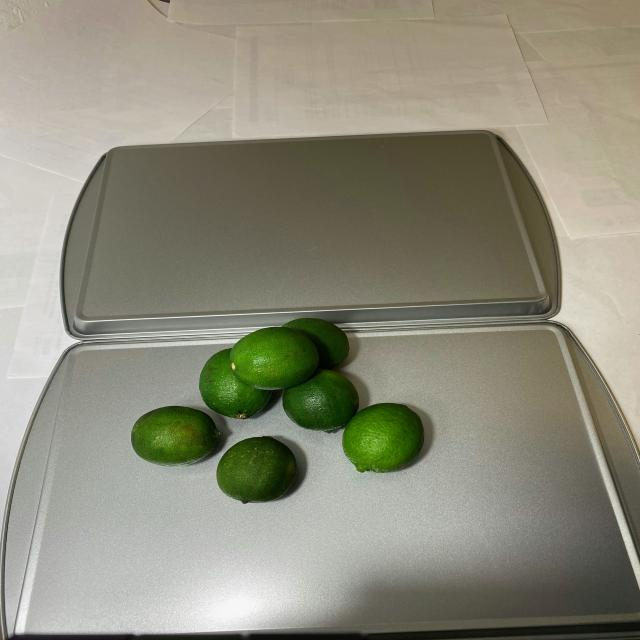lemon: (125, 318, 428, 509)
